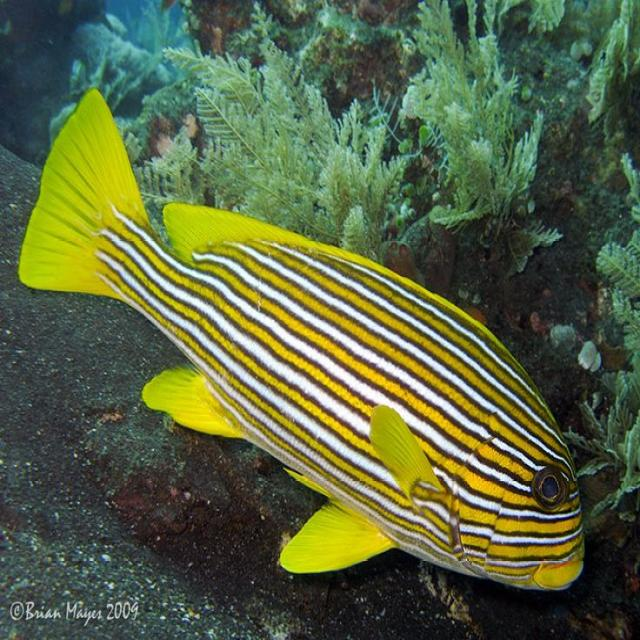RibbonedSweetlips: (17, 85, 587, 592)
